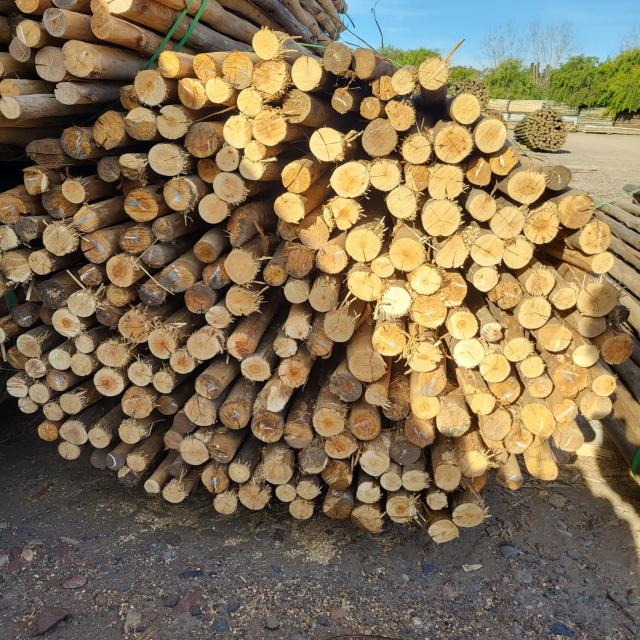package: (0, 33, 631, 533), (2, 1, 188, 141), (526, 110, 568, 155)
